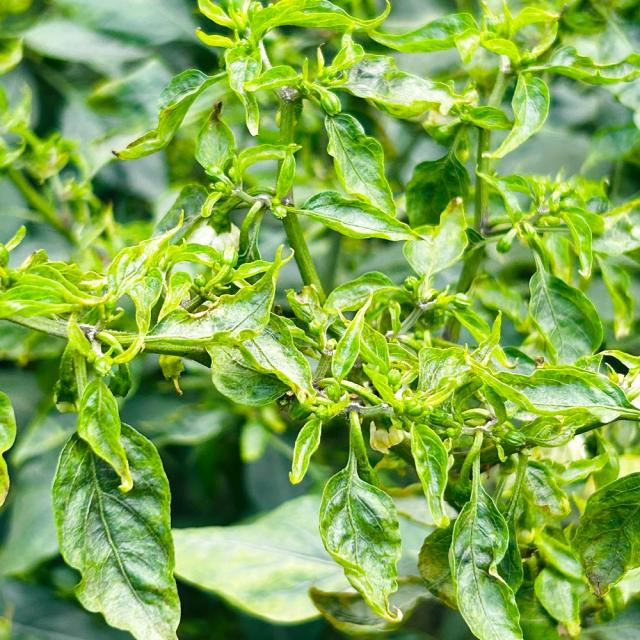Chilli_Leaf_Curl: (1, 1, 638, 638), (49, 416, 182, 639), (316, 411, 403, 624), (447, 428, 524, 639)
